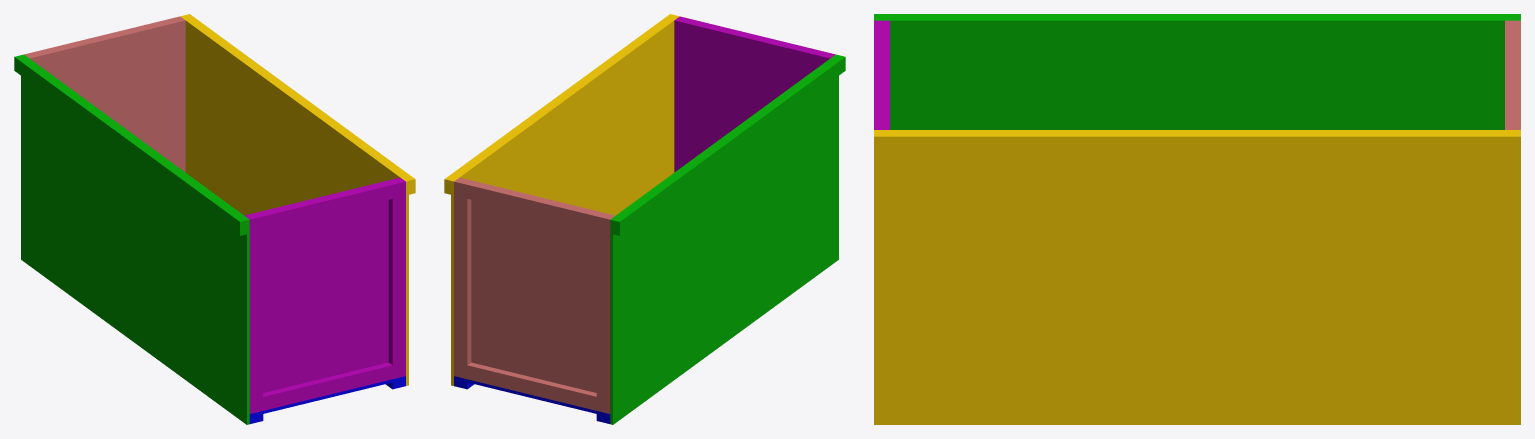
Rendered from result.glb.
The picture shows the model from 3 angles, left to right: view 1: azimuth 30°, elevation 25°; view 2: azimuth 150°, elevation 25°; view 3: azimuth 270°, elevation 25°; orthographic projection. The views are drawn at different scales.
Parts seen in each view (by area): view 1: d5d8b342-4529-49a9-a4c4-c4ade8784ea7__Box_6, 9d252848-5103-44a3-8344-d74bec394ae9__undefined, c3ed328d-8aa3-46fb-b3fe-ce230d97aa3f__Box_3, 09f97b01-9d26-4b26-af2f-a99b98030409__undefined, a2b020a6-ebb9-40af-83fe-9c2a61736424__Box_7, b6ef34a5-2193-4c85-8ff7-2e238147f6c9__undefined, 3d5d2632-eb5b-4964-965e-1771f66c62b5__Box_4, 627232a6-1e1d-400e-b7d7-ecddba64f19f__undefined, 7178870e-f071-4076-b772-13aa7dbffc7a__Box_5, bae39dd7-61fb-4148-b9c9-e0f275f6365c__undefined, ff874b7d-d901-42f8-a9ab-2dbec5e3d6a7__Box, cf444897-6daa-423d-8dd8-ed3ae388a339__undefined; view 2: d5d8b342-4529-49a9-a4c4-c4ade8784ea7__Box_6, 9d252848-5103-44a3-8344-d74bec394ae9__undefined, 09f97b01-9d26-4b26-af2f-a99b98030409__undefined, c3ed328d-8aa3-46fb-b3fe-ce230d97aa3f__Box_3, a2b020a6-ebb9-40af-83fe-9c2a61736424__Box_7, 9e4a03da-7579-448c-b13d-87c297cb0e2e__undefined, c378a470-d4da-41d6-b4d3-f3d385739237__undefined, cf444897-6daa-423d-8dd8-ed3ae388a339__undefined, b0203ed5-0c46-4186-8130-47fd88a3e663__undefined, bae39dd7-61fb-4148-b9c9-e0f275f6365c__undefined, ff874b7d-d901-42f8-a9ab-2dbec5e3d6a7__Box, 627232a6-1e1d-400e-b7d7-ecddba64f19f__undefined; view 3: 9d252848-5103-44a3-8344-d74bec394ae9__undefined, d5d8b342-4529-49a9-a4c4-c4ade8784ea7__Box_6, bae39dd7-61fb-4148-b9c9-e0f275f6365c__undefined, a2b020a6-ebb9-40af-83fe-9c2a61736424__Box_7, 627232a6-1e1d-400e-b7d7-ecddba64f19f__undefined, cf444897-6daa-423d-8dd8-ed3ae388a339__undefined.
Part boxes in pixels (x1,y1,x2,y2): d5d8b342-4529-49a9-a4c4-c4ade8784ea7__Box_6: [21, 54, 249, 424]; 9d252848-5103-44a3-8344-d74bec394ae9__undefined: [180, 15, 408, 385]; c3ed328d-8aa3-46fb-b3fe-ce230d97aa3f__Box_3: [244, 177, 401, 392]; 09f97b01-9d26-4b26-af2f-a99b98030409__undefined: [28, 19, 185, 172]; a2b020a6-ebb9-40af-83fe-9c2a61736424__Box_7: [14, 55, 246, 235]; b6ef34a5-2193-4c85-8ff7-2e238147f6c9__undefined: [388, 179, 405, 378]; 3d5d2632-eb5b-4964-965e-1771f66c62b5__Box_4: [246, 213, 263, 413]; 627232a6-1e1d-400e-b7d7-ecddba64f19f__undefined: [259, 182, 392, 230]; 7178870e-f071-4076-b772-13aa7dbffc7a__Box_5: [263, 362, 392, 410]; bae39dd7-61fb-4148-b9c9-e0f275f6365c__undefined: [183, 14, 415, 194]; ff874b7d-d901-42f8-a9ab-2dbec5e3d6a7__Box: [249, 376, 405, 416]; cf444897-6daa-423d-8dd8-ed3ae388a339__undefined: [38, 19, 170, 53]; d5d8b342-4529-49a9-a4c4-c4ade8784ea7__Box_6: [610, 54, 838, 424]; 9d252848-5103-44a3-8344-d74bec394ae9__undefined: [451, 15, 679, 385]; 09f97b01-9d26-4b26-af2f-a99b98030409__undefined: [458, 177, 615, 392]; c3ed328d-8aa3-46fb-b3fe-ce230d97aa3f__Box_3: [674, 19, 831, 172]; a2b020a6-ebb9-40af-83fe-9c2a61736424__Box_7: [613, 55, 845, 235]; 9e4a03da-7579-448c-b13d-87c297cb0e2e__undefined: [454, 179, 471, 378]; c378a470-d4da-41d6-b4d3-f3d385739237__undefined: [596, 213, 613, 413]; cf444897-6daa-423d-8dd8-ed3ae388a339__undefined: [467, 182, 600, 230]; b0203ed5-0c46-4186-8130-47fd88a3e663__undefined: [467, 362, 596, 410]; bae39dd7-61fb-4148-b9c9-e0f275f6365c__undefined: [444, 14, 676, 194]; ff874b7d-d901-42f8-a9ab-2dbec5e3d6a7__Box: [454, 376, 610, 416]; 627232a6-1e1d-400e-b7d7-ecddba64f19f__undefined: [689, 19, 821, 53]; 9d252848-5103-44a3-8344-d74bec394ae9__undefined: [874, 130, 1520, 424]; d5d8b342-4529-49a9-a4c4-c4ade8784ea7__Box_6: [874, 18, 1520, 129]; bae39dd7-61fb-4148-b9c9-e0f275f6365c__undefined: [874, 132, 1520, 156]; a2b020a6-ebb9-40af-83fe-9c2a61736424__Box_7: [874, 14, 1520, 18]; 627232a6-1e1d-400e-b7d7-ecddba64f19f__undefined: [874, 30, 885, 120]; cf444897-6daa-423d-8dd8-ed3ae388a339__undefined: [1509, 30, 1520, 120].
Bounding box in the file's own units: 472 × 526 × 1052.
